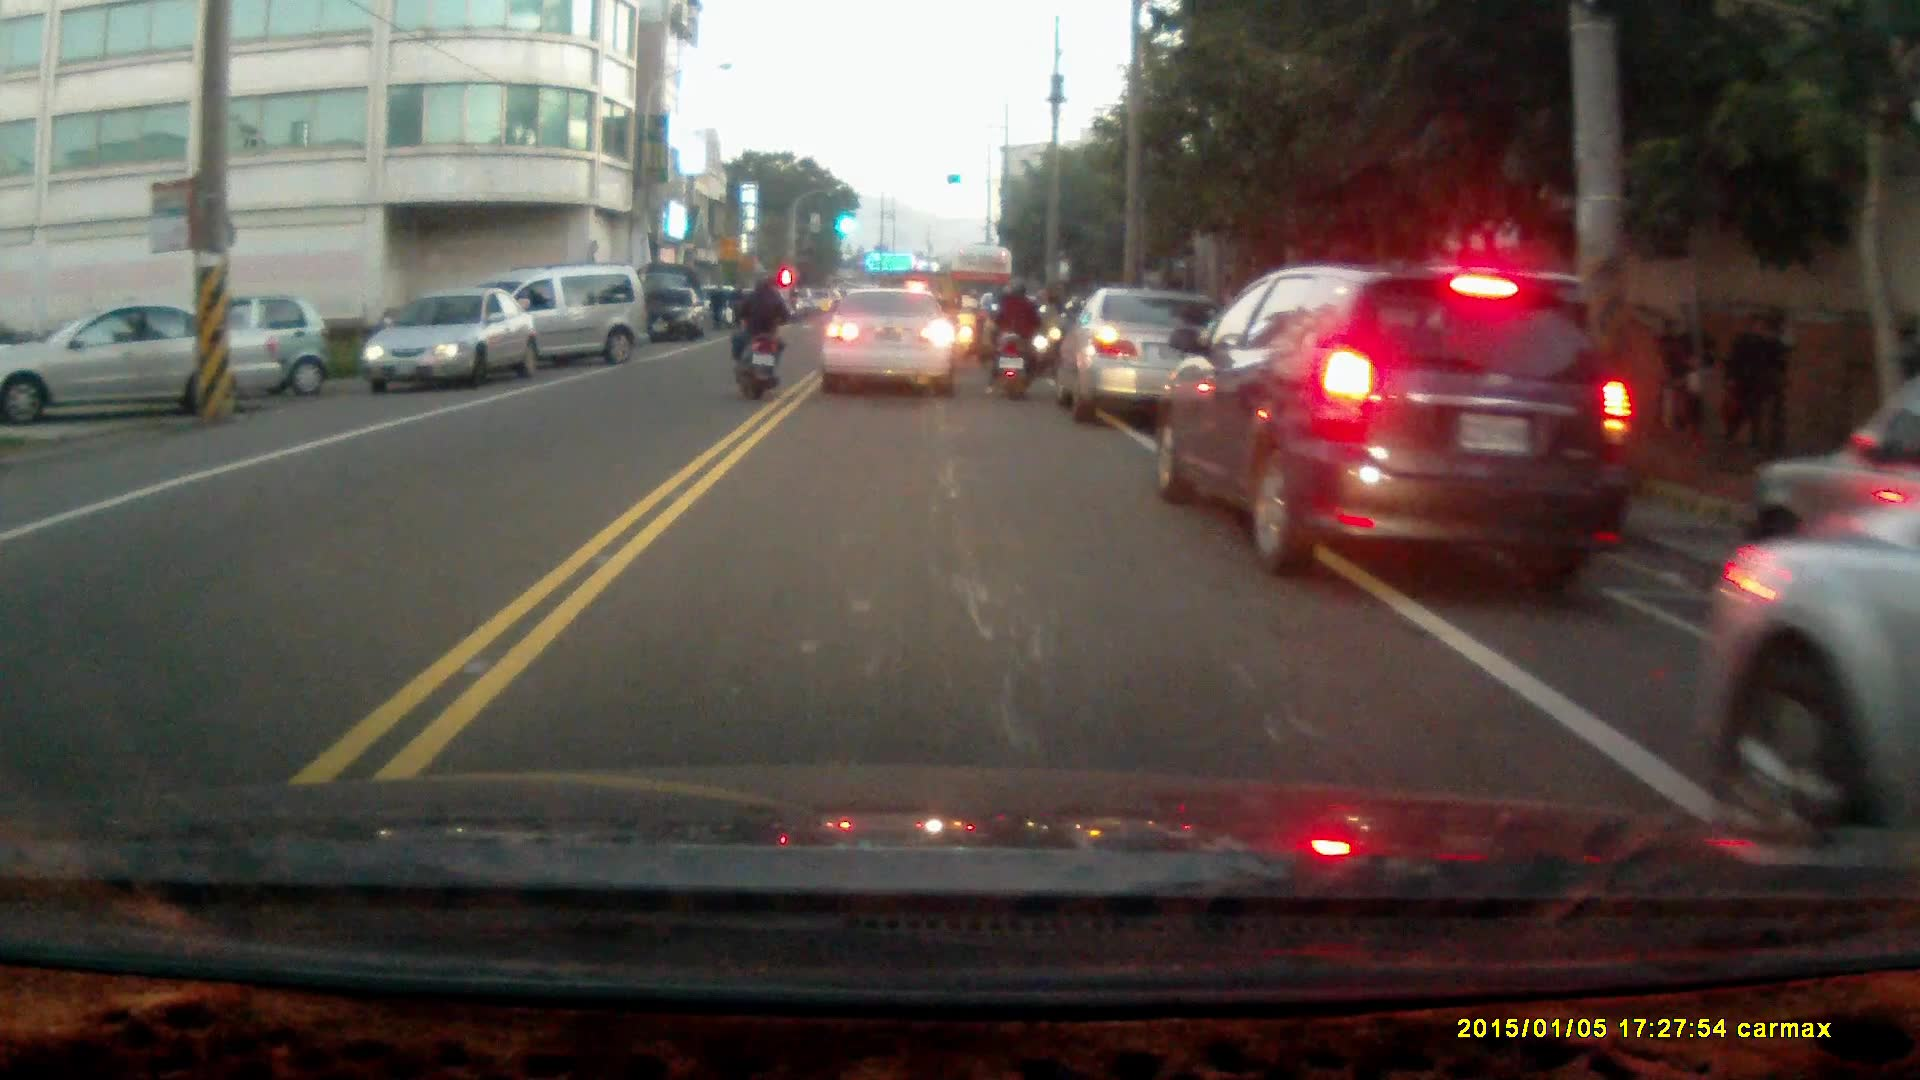pedestrian: (1719, 308, 1773, 461), (1671, 305, 1722, 455)
rider: (985, 271, 1048, 402), (727, 275, 788, 400)
vehicle: (1152, 262, 1641, 579), (1698, 485, 1920, 883), (4, 303, 271, 422), (1050, 284, 1231, 419), (103, 295, 327, 402), (456, 264, 649, 377), (364, 288, 537, 394), (817, 287, 960, 399), (640, 288, 701, 346)
